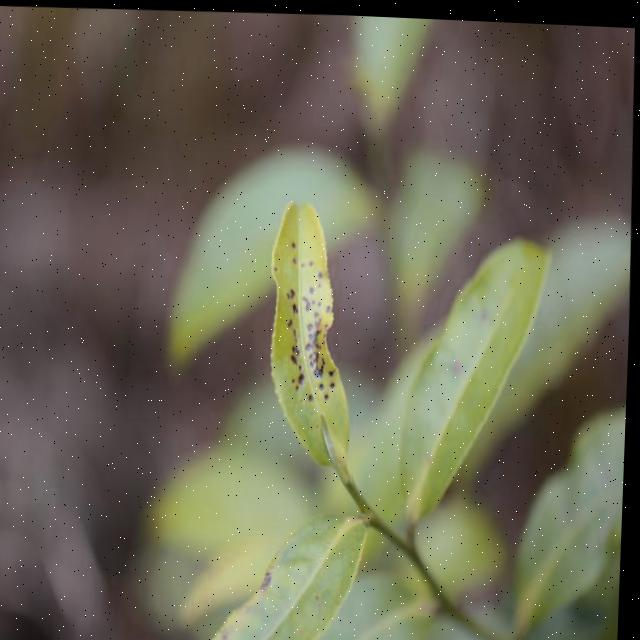Tea red scab: (277, 231, 344, 391)
